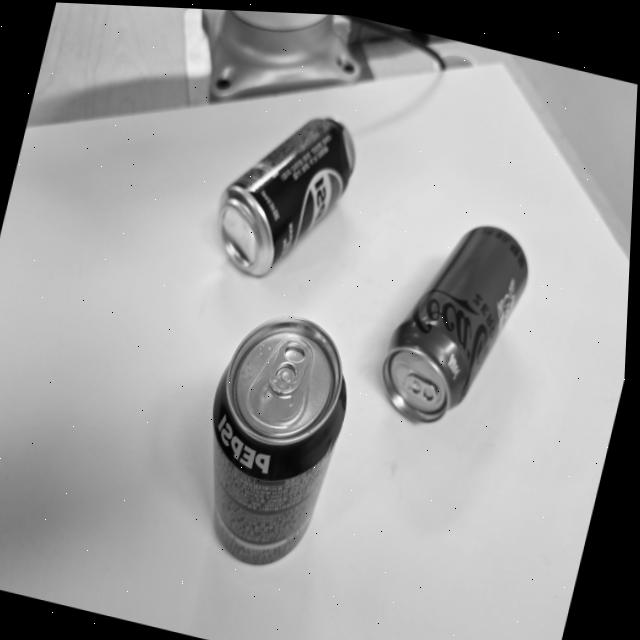can_coke_zero: (377, 225, 528, 428)
can_pepsi: (211, 314, 348, 568)
can_pepsi_zero: (215, 117, 356, 277)
